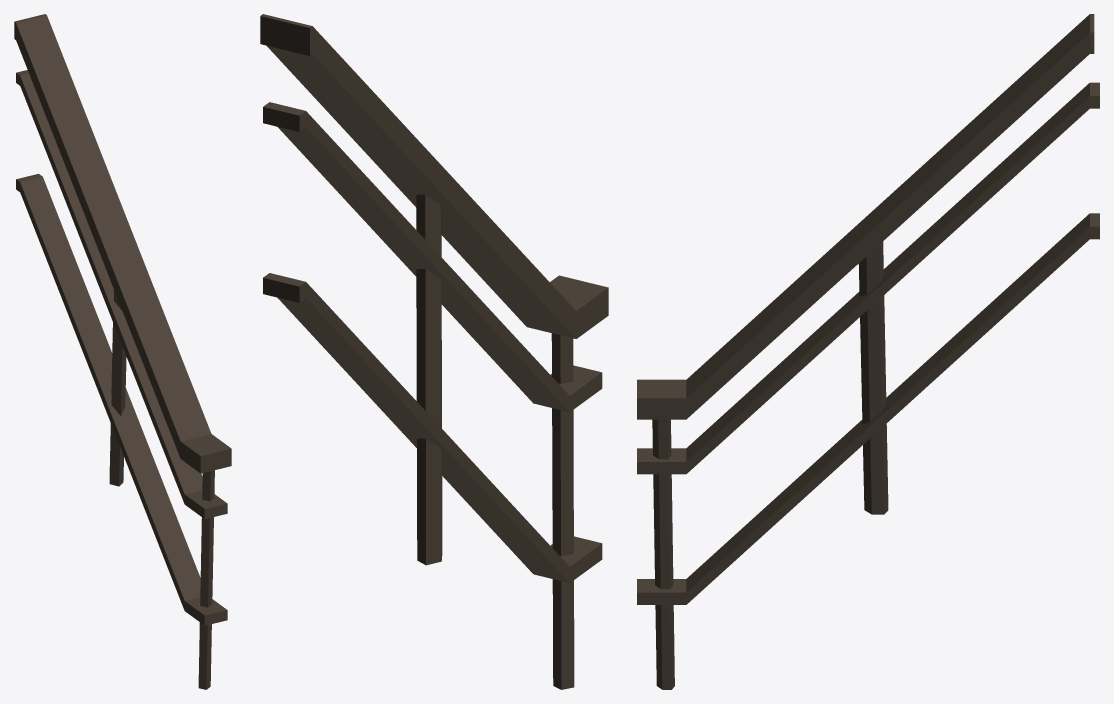
File: SM_Bld_House_Stairs_03_Railing_01.fbx
The picture shows the model from 3 angles, left to right: view 1: azimuth 30°, elevation 25°; view 2: azimuth 150°, elevation 25°; view 3: azimuth 270°, elevation 25°; orthographic projection. The views are drawn at different scales.
Parts seen in each view (by area): view 1: SM_Bld_House_Stairs_03_Railing_01; view 2: SM_Bld_House_Stairs_03_Railing_01; view 3: SM_Bld_House_Stairs_03_Railing_01.
Part boxes in pixels (x1,y1,x2,y2): SM_Bld_House_Stairs_03_Railing_01: (14, 14, 231, 689); SM_Bld_House_Stairs_03_Railing_01: (260, 14, 608, 689); SM_Bld_House_Stairs_03_Railing_01: (637, 14, 1099, 689).
Bounding box in the file's own units: 13.58 × 227 × 143.
